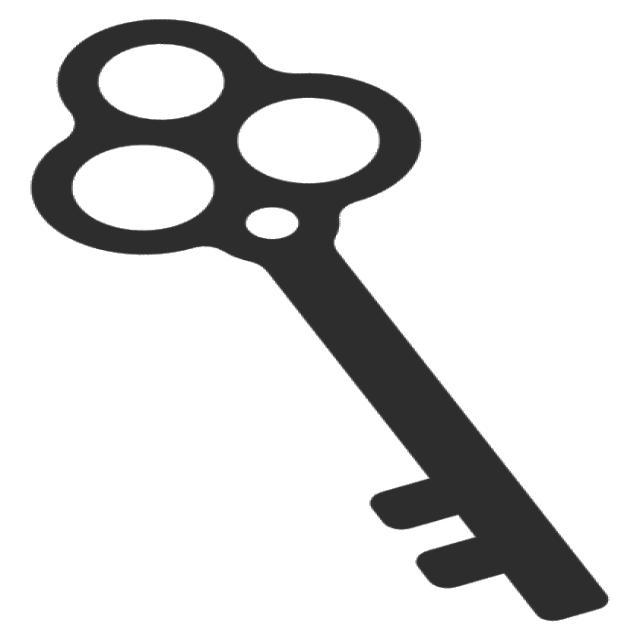key: (19, 18, 620, 638)
